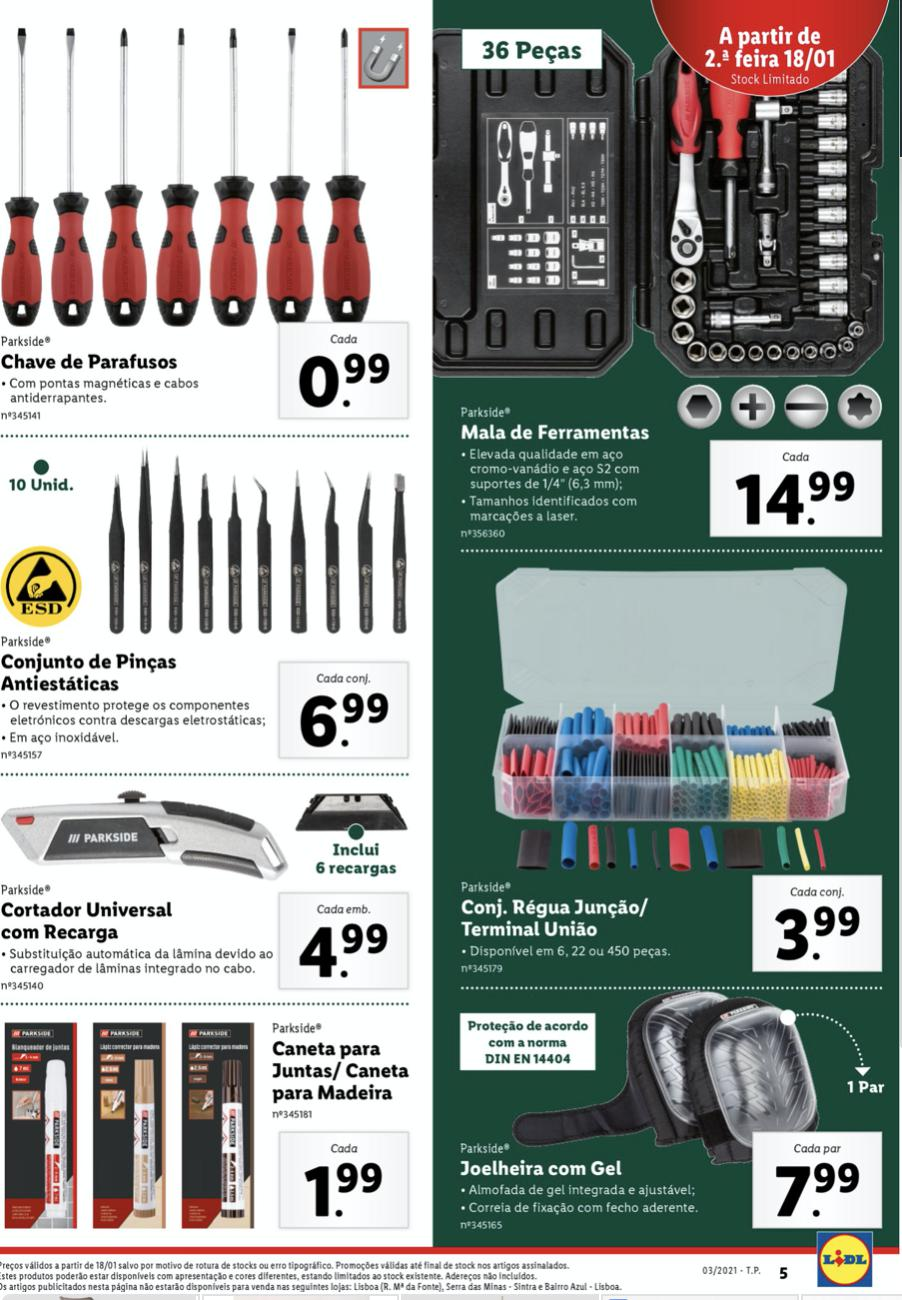name: (264, 1036, 415, 1107), (455, 897, 655, 940), (1, 898, 178, 944), (1, 650, 180, 695), (454, 421, 659, 447), (457, 1155, 631, 1182), (1, 352, 183, 377)
price: (735, 465, 857, 532), (293, 348, 396, 410), (299, 918, 391, 987), (297, 689, 393, 755), (770, 1161, 862, 1221), (304, 1160, 388, 1224), (772, 907, 860, 966)
product: (443, 16, 888, 544), (446, 561, 888, 979), (4, 10, 425, 434), (1, 455, 430, 771), (443, 998, 889, 1239), (1, 1011, 431, 1236), (1, 786, 430, 995)
